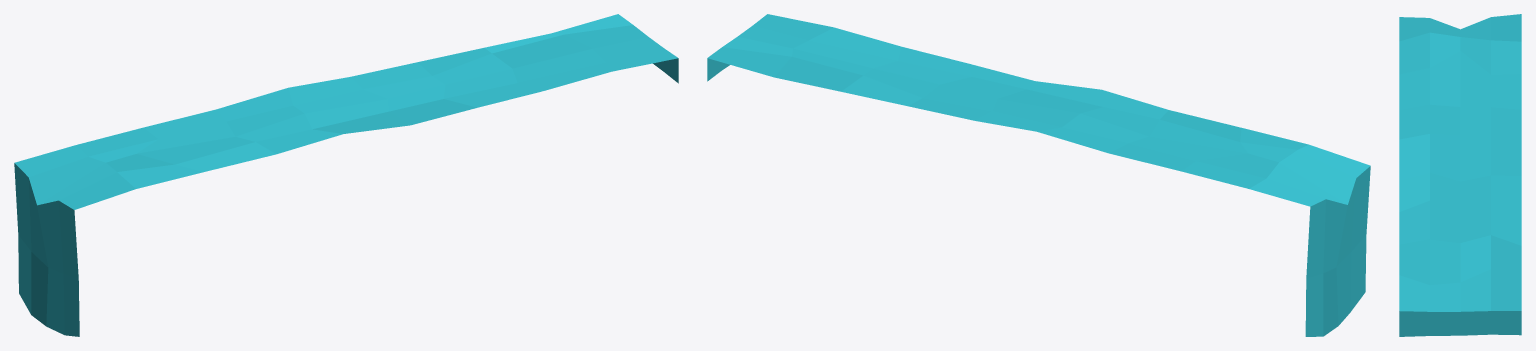
File: forest-water.fbx
The picture shows the model from 3 angles, left to right: view 1: azimuth 30°, elevation 25°; view 2: azimuth 150°, elevation 25°; view 3: azimuth 270°, elevation 25°; orthographic projection.
Visible parts, largest first — view 1: forest-world; view 2: forest-world; view 3: forest-world.
Part boxes in pixels (left/top/right/bottom): forest-world: left=14, top=14, right=678, bottom=336; forest-world: left=707, top=14, right=1370, bottom=336; forest-world: left=1399, top=14, right=1521, bottom=336.
Size of the model in its own units: 20.27 by 4.82 by 3.47.
